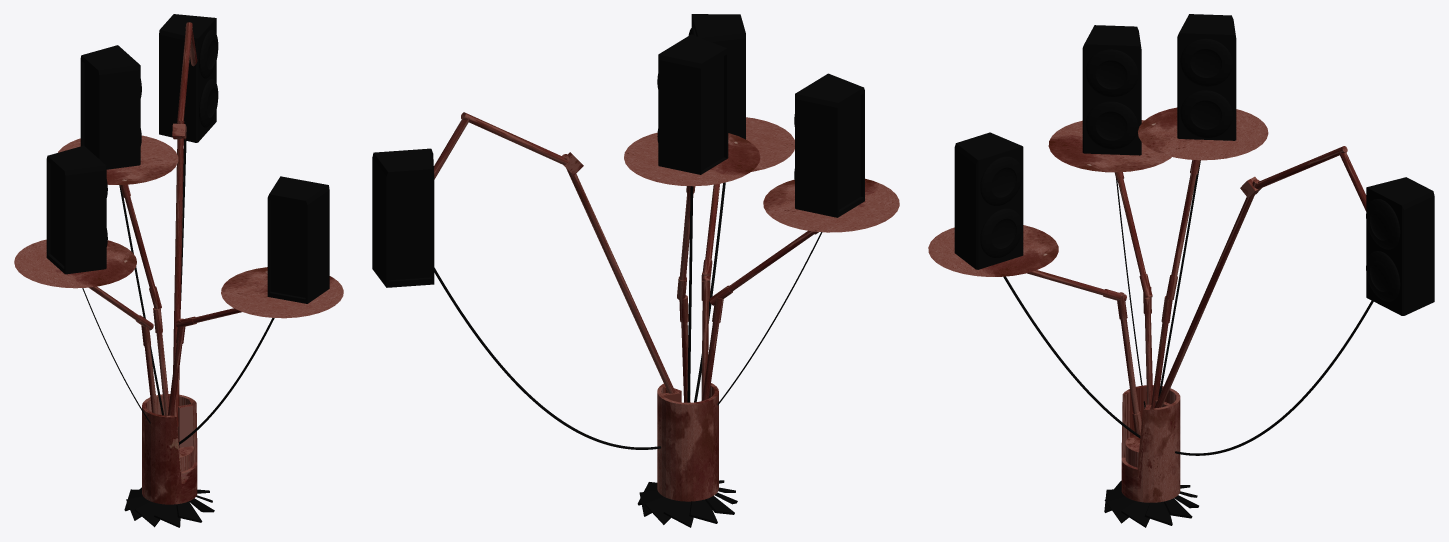
File: preacher.fbx
3 renders of one model, left to right at view 1: azimuth 30°, elevation 25°; view 2: azimuth 150°, elevation 25°; view 3: azimuth 270°, elevation 25°, orthographic. The views are drawn at different scales.
Parts seen in each view (by area): view 1: Cube.077, Cube.079, Cube.078, Cylinder.173, Cube.076, Cone.010, Cone.009, Cone.008, Cube.081, Cylinder.163, Cylinder.167, Cylinder.164 (+9 smaller); view 2: Cube.079, Cube.078, Cube.076, Cylinder.173, Cone.009, Cone.008, Cube.077, Cube.081, Cylinder.163, Cone.010, Catenary.002, Cylinder.164 (+7 smaller); view 3: Cube.076, Cylinder.173, Cube.077, Cone.008, Cube.079, Cube.078, Cone.010, Cone.009, Cube.081, Sphere.016, Sphere.013, Sphere.014 (+16 smaller).
Part boxes in pixels (x1,y1,x2,y2): Cube.077: [267, 176, 329, 303]; Cube.079: [46, 145, 106, 274]; Cube.078: [80, 45, 140, 169]; Cylinder.173: [142, 394, 197, 504]; Cube.076: [159, 14, 216, 142]; Cone.010: [221, 267, 343, 318]; Cone.009: [14, 239, 136, 288]; Cone.008: [58, 135, 178, 184]; Cube.081: [124, 487, 214, 527]; Cylinder.163: [173, 121, 184, 426]; Cylinder.167: [120, 184, 161, 308]; Cylinder.164: [176, 22, 192, 139]; Cube.079: [795, 73, 864, 217]; Cube.078: [658, 34, 728, 174]; Cube.076: [372, 148, 434, 287]; Cylinder.173: [657, 383, 718, 501]; Cone.009: [763, 178, 899, 232]; Cone.008: [624, 132, 760, 186]; Cube.077: [691, 14, 745, 139]; Cube.081: [637, 480, 737, 527]; Cylinder.163: [562, 154, 675, 393]; Cone.010: [746, 117, 794, 171]; Catenary.002: [434, 267, 660, 449]; Cylinder.164: [461, 112, 568, 164]; Cube.076: [1366, 177, 1434, 315]; Cylinder.173: [1121, 385, 1180, 502]; Cube.077: [954, 132, 1023, 269]; Cone.008: [1138, 107, 1268, 160]; Cube.079: [1082, 25, 1141, 155]; Cube.078: [1177, 14, 1236, 140]; Cone.010: [928, 225, 1058, 276]; Cone.009: [1048, 120, 1171, 172]; Cube.081: [1104, 480, 1198, 527]; Sphere.016: [1180, 38, 1232, 86]; Sphere.013: [1180, 90, 1232, 137]; Sphere.014: [1085, 101, 1137, 149].
Size of the model in its own units: 774 by 787 by 619.
Materials: 2 (1 with a texture image).
